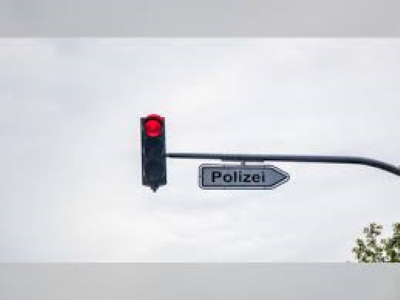trafficlight_red: (140, 115, 167, 185)
